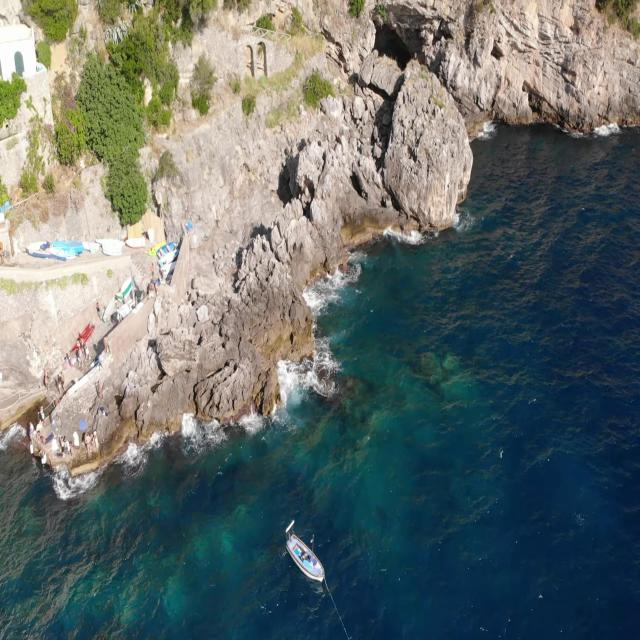boat: (285, 517, 326, 584)
